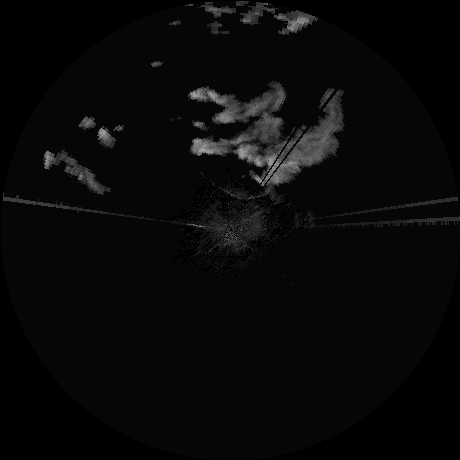frontgust: (222, 188, 271, 201)
